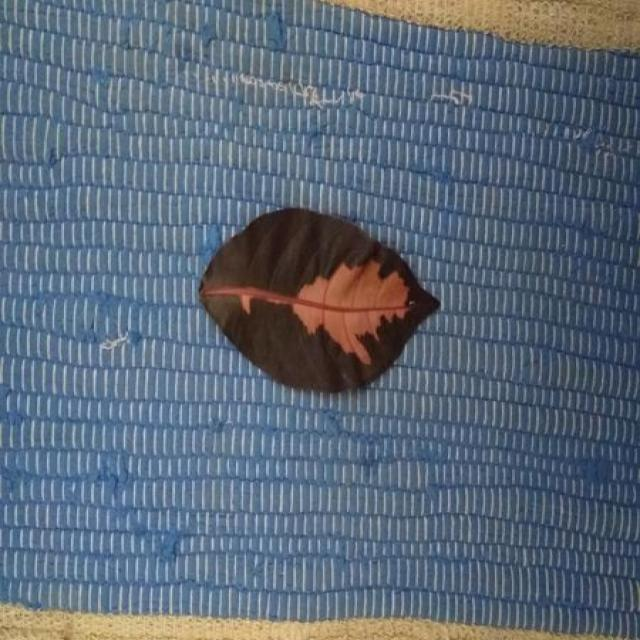caricature: (202, 209, 440, 392)
